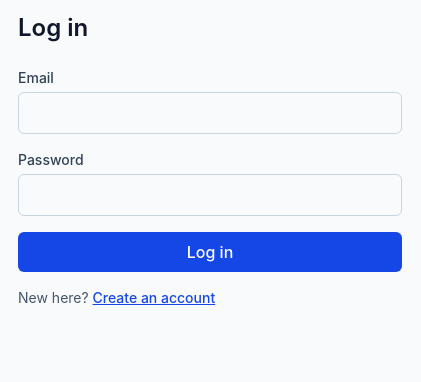
Test: LoginPage › says when the server cannot be reached
Type "asha@example.com" into the field labelled "Email" at [210, 113], box left=18, top=92, right=402, bottom=134
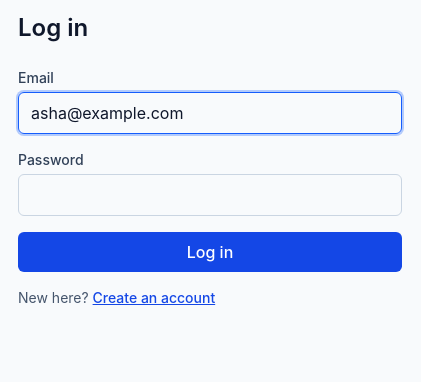
Type "s3cure-pass" into the password field labelled "Password" at [210, 195], box left=18, top=174, right=402, bottom=216
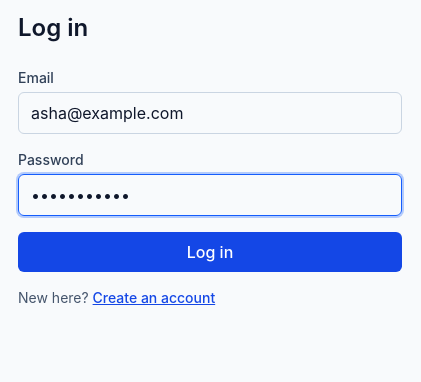
Click the button "Log in" at [210, 252], box left=18, top=232, right=402, bottom=272
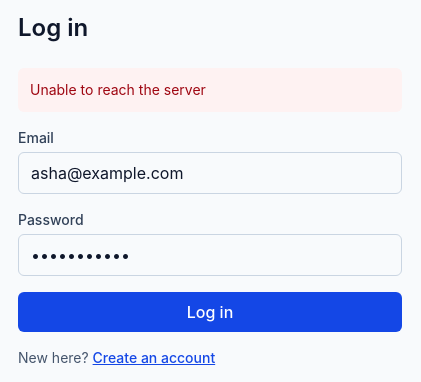
Expected: the message reads "Unable to reach the server", left=30, top=81, right=206, bottom=98
